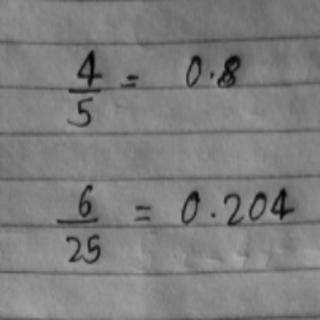.: (204, 64, 219, 83), (204, 207, 219, 222)
0: (179, 54, 208, 88), (178, 190, 204, 227), (247, 189, 272, 223)
2: (72, 180, 95, 218), (225, 190, 245, 227), (64, 236, 85, 267)
4: (75, 49, 104, 90), (268, 188, 297, 224)
5: (67, 95, 98, 130), (85, 231, 105, 265)
8: (217, 54, 243, 89)
